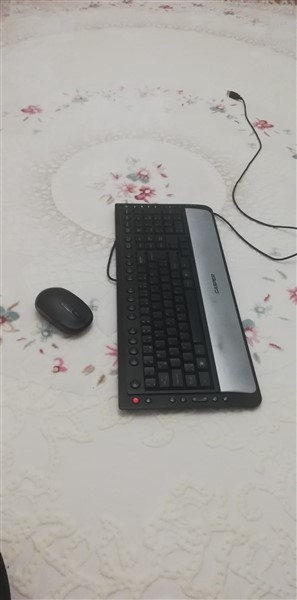klavye: (110, 192, 267, 417)
mouse: (32, 285, 97, 338)
